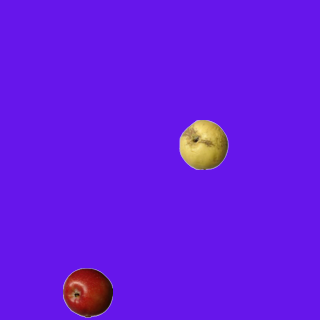Apple Braeburn: (62, 267, 112, 317)
Apple Golden 1: (178, 119, 228, 169)
